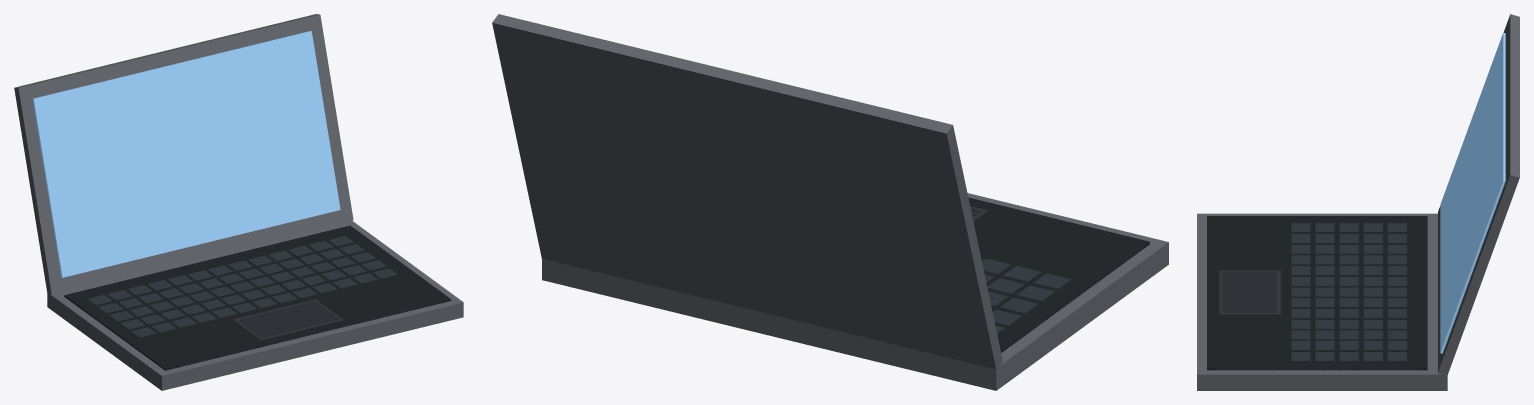
The model's file is laptop_black.glb.
3 renders of one model, left to right at view 1: azimuth 30°, elevation 25°; view 2: azimuth 150°, elevation 25°; view 3: azimuth 270°, elevation 25°, orthographic. The views are drawn at different scales.
Visible parts, largest first — view 1: laptop_black; view 2: laptop_black; view 3: laptop_black.
Part boxes in pixels (box(x1,y1,x2,y2)): laptop_black: box(14, 14, 463, 390); laptop_black: box(492, 14, 1168, 390); laptop_black: box(1197, 14, 1519, 390).
Size of the model in its own units: 0.38 by 0.2379 by 0.3221.
3 materials, 1 textured.
